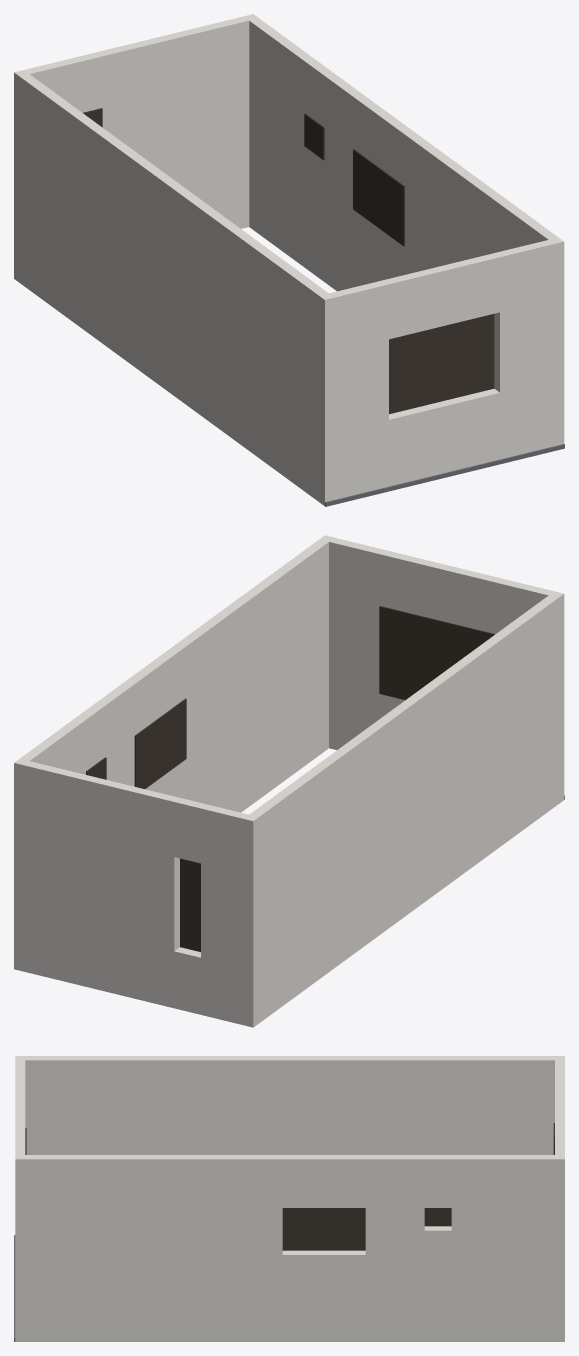
File: SM_Floor_NarrowUpperWindowEndR_White_364_Back_01.gltf
3 renders of one model, top to bottom at view 1: azimuth 30°, elevation 25°; view 2: azimuth 150°, elevation 25°; view 3: azimuth 270°, elevation 25°, orthographic. The views are drawn at different scales.
Parts seen in each view (by area): view 1: SM_Floor_NarrowUpperWindowEndR_White_364_Back_01; view 2: SM_Floor_NarrowUpperWindowEndR_White_364_Back_01; view 3: SM_Floor_NarrowUpperWindowEndR_White_364_Back_01.
Part boxes in pixels (box(x1,y1,x2,y2)): SM_Floor_NarrowUpperWindowEndR_White_364_Back_01: box(14, 14, 564, 506); SM_Floor_NarrowUpperWindowEndR_White_364_Back_01: box(14, 535, 564, 1027); SM_Floor_NarrowUpperWindowEndR_White_364_Back_01: box(14, 1056, 564, 1341).
Bounding box in the file's own units: 3.64 × 3 × 8.21.
1 material, 1 textured.
